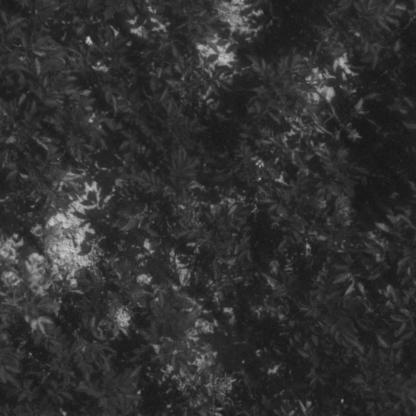healthy: (3, 270, 220, 413), (4, 0, 132, 203), (234, 2, 413, 120), (300, 263, 416, 413), (133, 2, 229, 159), (306, 128, 416, 260)
stressed: (235, 122, 297, 278), (229, 321, 290, 416), (166, 169, 219, 252), (3, 237, 92, 261)
